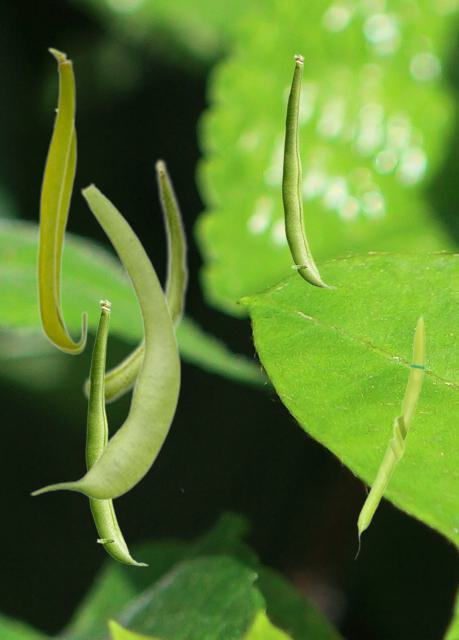french_bean: (29, 181, 181, 499), (82, 157, 189, 404), (354, 312, 427, 559), (85, 299, 148, 565), (35, 46, 87, 351), (281, 54, 337, 288), (53, 107, 86, 354)
